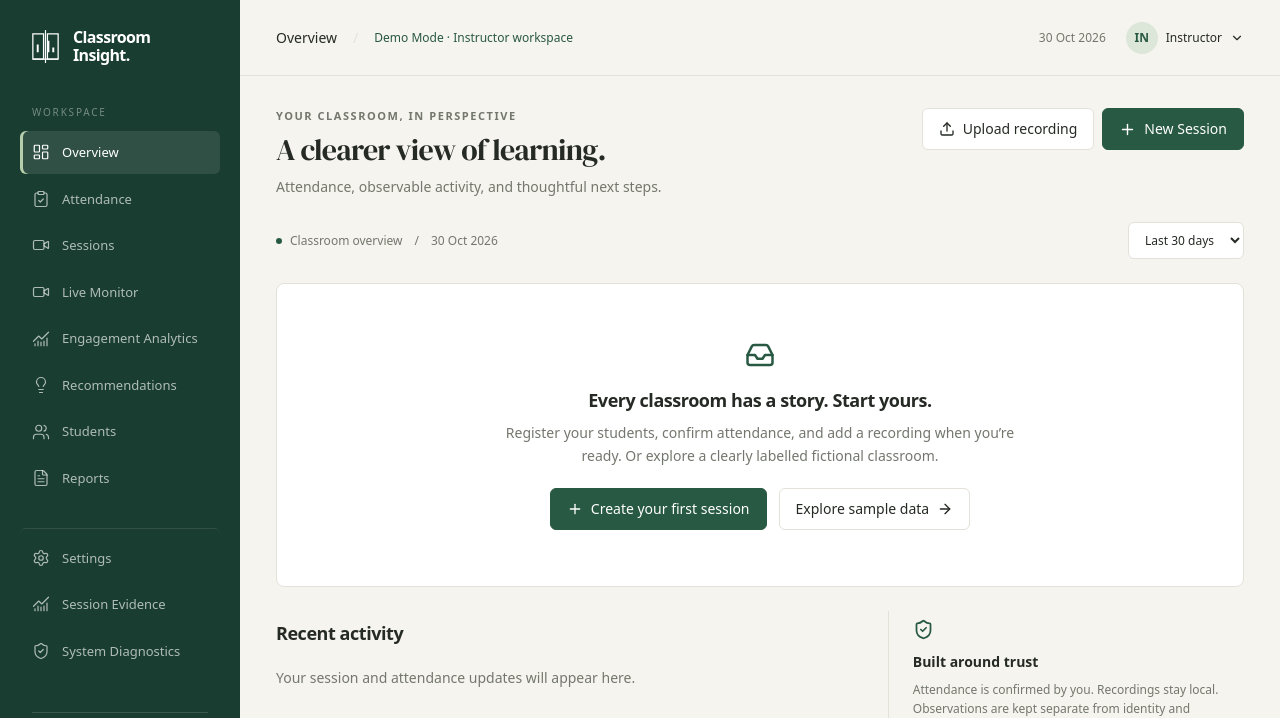
Test: navigation opens Sessions
Expected: the heading "A clearer view of learning." is shown, [276,132,662,168]
Click the link "Sessions": (73, 245) [32,236,114,254]
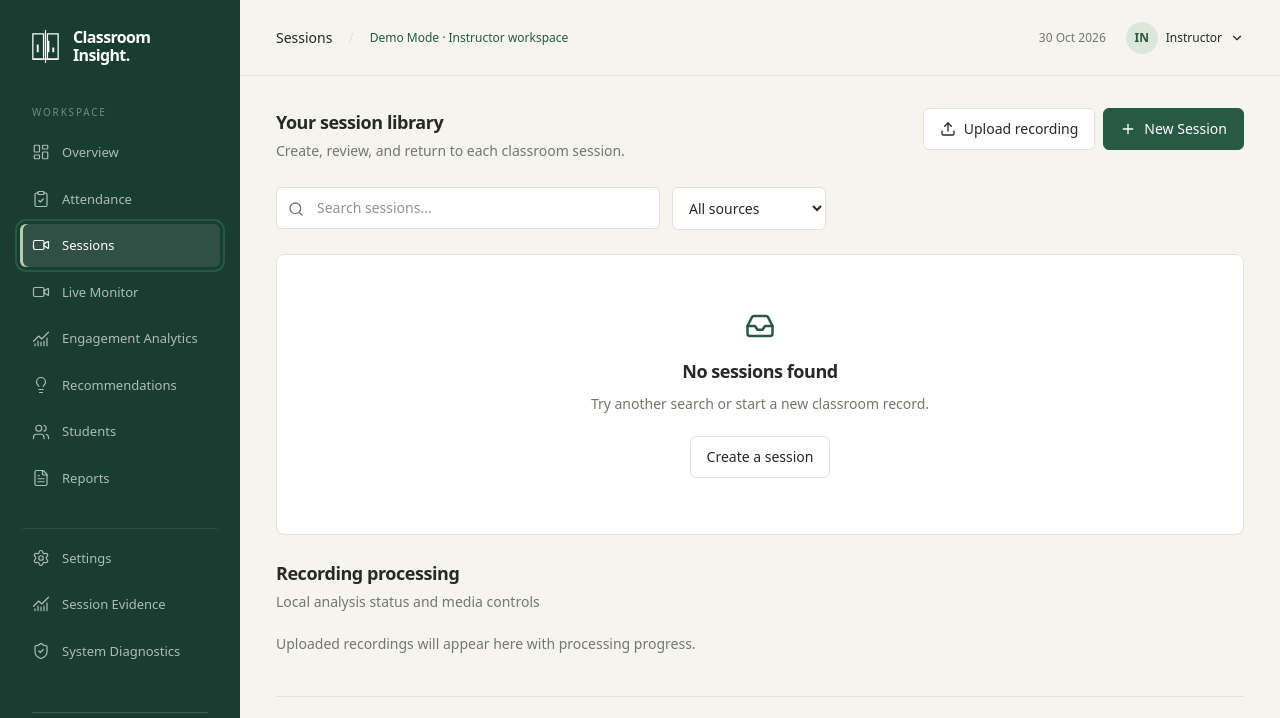
Now the heading "Your session library" is shown, box [276,110,443,134]
